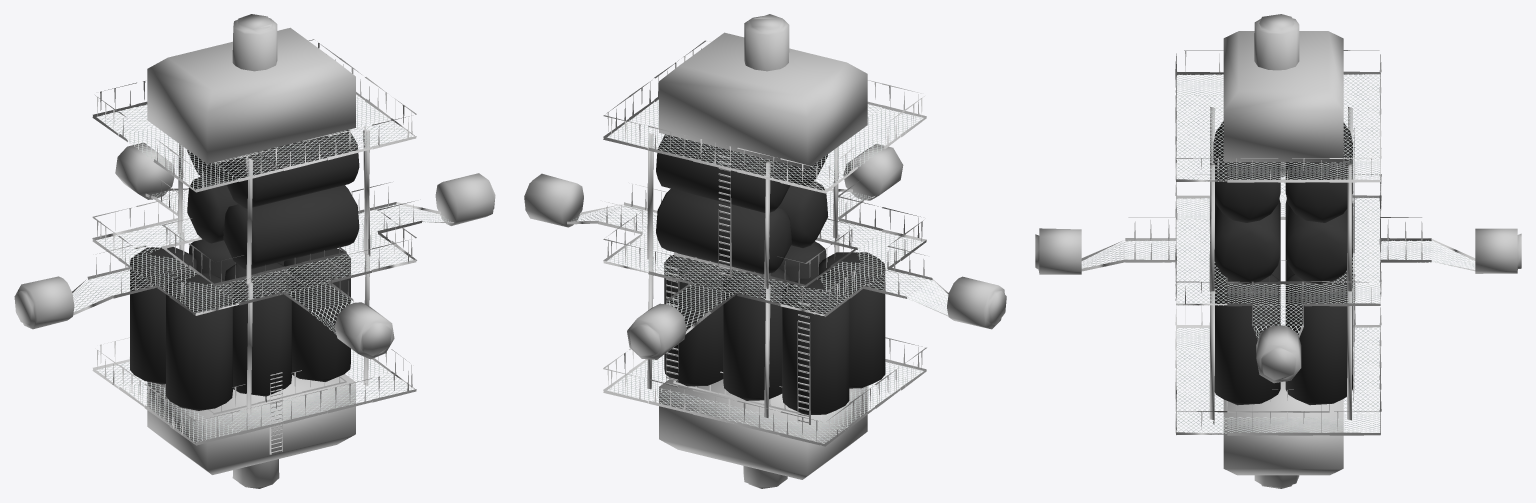
Rendered from Tankmodul.fbx.
3 views of the same model, side by side, from view 1: azimuth 30°, elevation 25°; view 2: azimuth 150°, elevation 25°; view 3: azimuth 270°, elevation 25° (orthographic).
Visible parts, largest first — view 1: Tankmodul lp; view 2: Tankmodul lp; view 3: Tankmodul lp.
Part boxes in pixels (box(x1,y1,x2,y2)): Tankmodul lp: box(14, 14, 495, 488); Tankmodul lp: box(524, 14, 1006, 488); Tankmodul lp: box(1035, 14, 1521, 488).
Bounding box in the file's own units: 1567 × 1483 × 1421.
